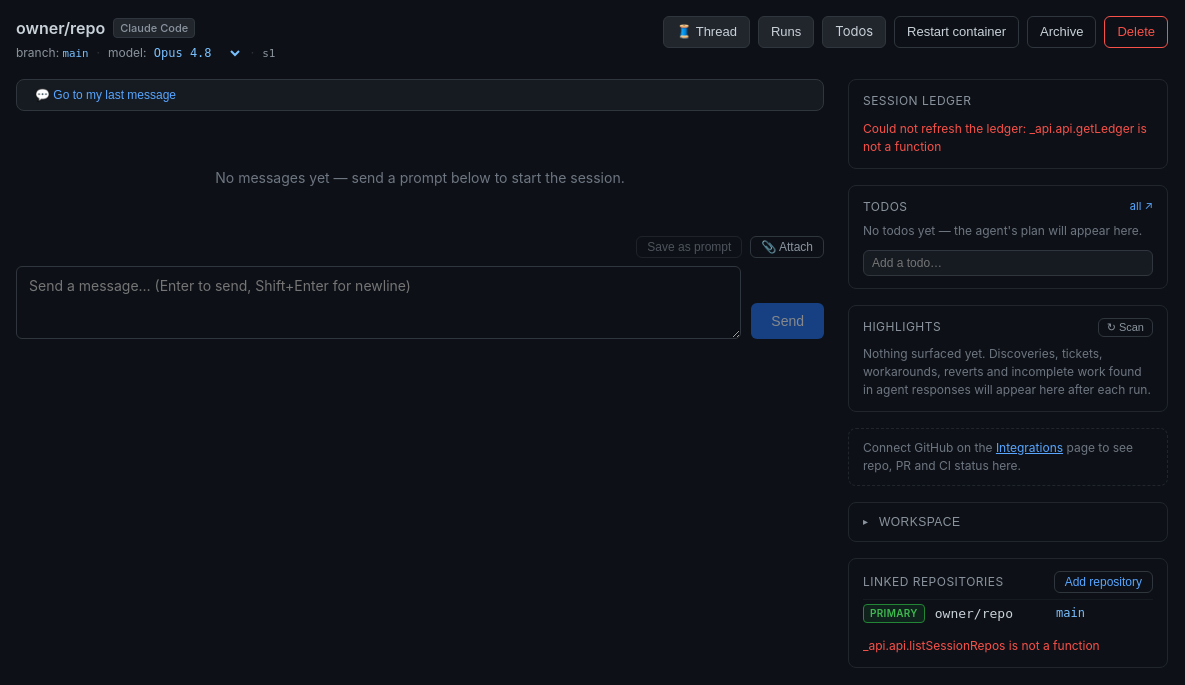
Test: SessionDetail failed-draft recovery for the currently-viewed session (#569) › surfaces a stale failed send immediately, without waiting for a later revisit
The width and height of the screenshot is (1185, 685).
Step 1. Type "hello world" into the text box with placeholder "Send a message… (Enter to send, Shift+Enter for newline)" → (379, 302), box x1=16 y1=266 x2=741 y2=338
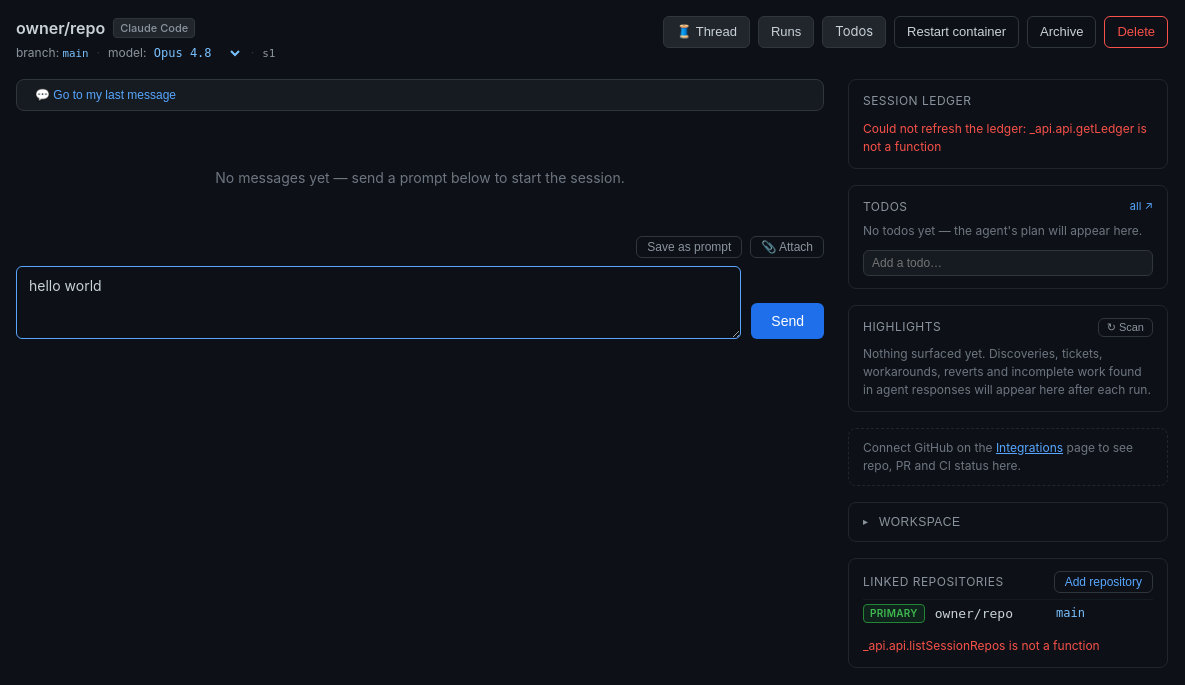
Step 2. Click the button "Send" → (788, 320), box x1=751 y1=302 x2=824 y2=338
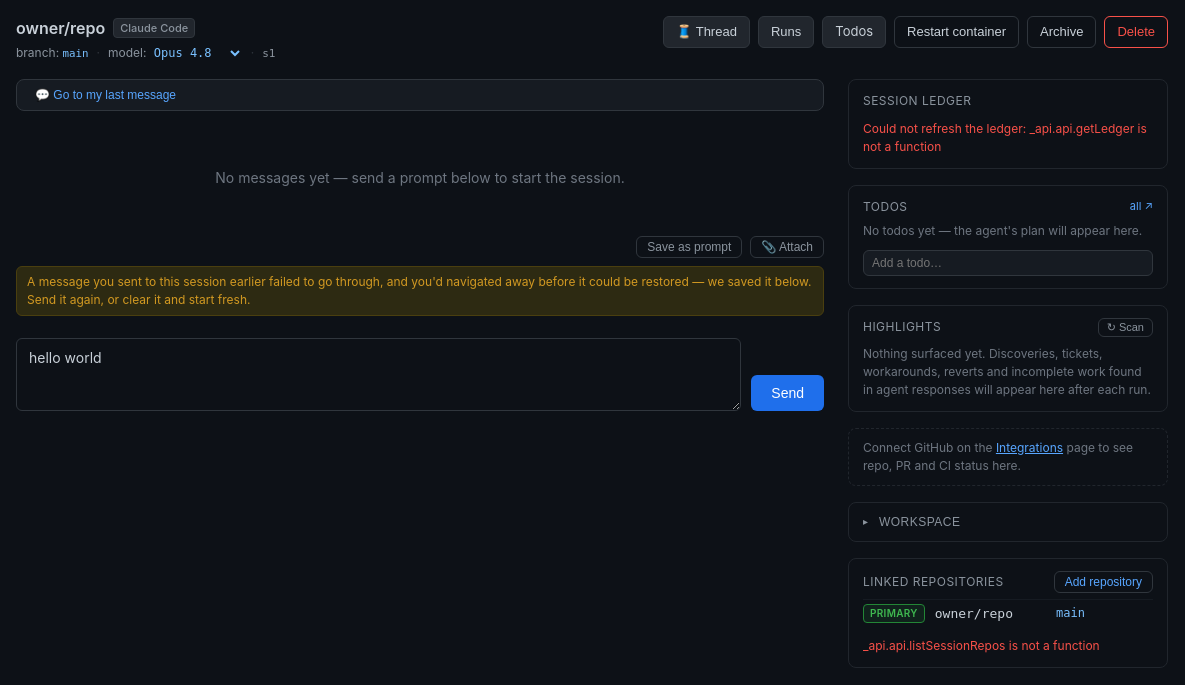
Check: the text "message you sent to this session earlier failed to go through" is shown, box x1=27 y1=274 x2=812 y2=306
